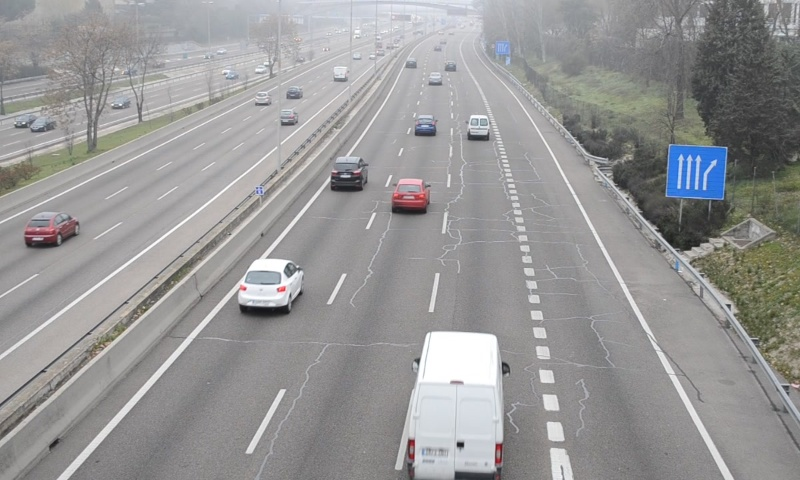car: (239, 258, 302, 309), (392, 178, 427, 211), (330, 156, 364, 188), (414, 114, 436, 136)
van: (406, 332, 504, 480), (467, 114, 489, 139)
